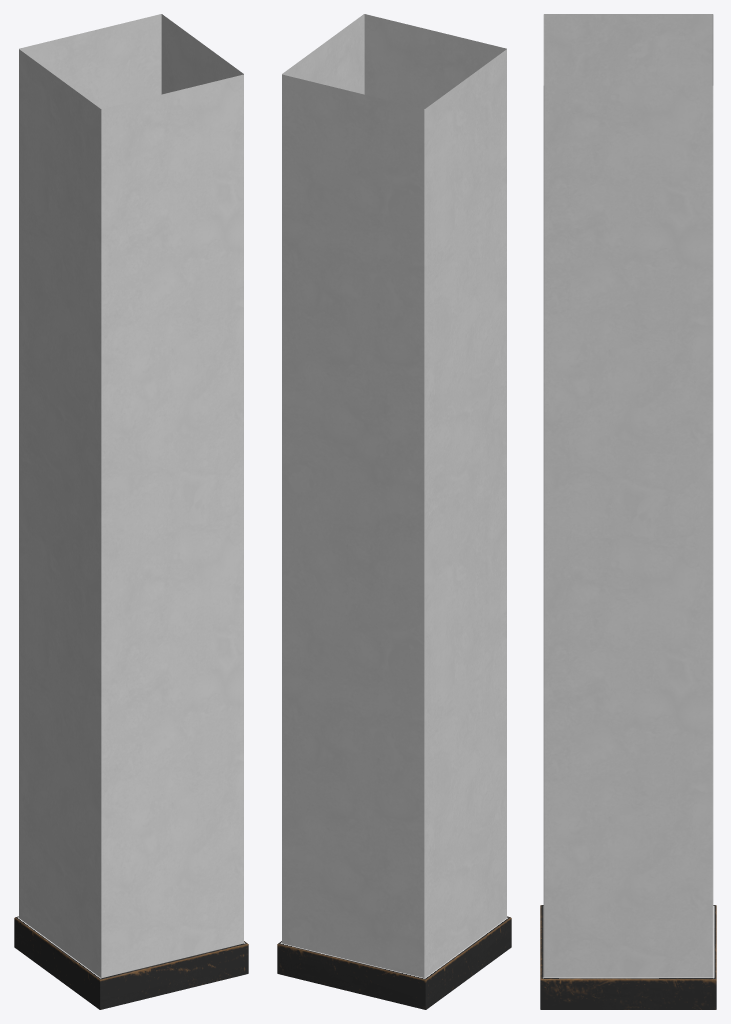
File: SM_InteriorPillar_01_50.fbx
3 views of the same model, side by side, from view 1: azimuth 30°, elevation 25°; view 2: azimuth 150°, elevation 25°; view 3: azimuth 270°, elevation 25° (orthographic). The views are drawn at different scales.
Visible parts, largest first — view 1: SM_InteriorPillar_01_50_LOD0; view 2: SM_InteriorPillar_01_50_LOD0; view 3: SM_InteriorPillar_01_50_LOD0.
Boxes of the visible parts, x1,y1,x2,y2 form: SM_InteriorPillar_01_50_LOD0: (14, 14, 248, 1009); SM_InteriorPillar_01_50_LOD0: (277, 14, 511, 1009); SM_InteriorPillar_01_50_LOD0: (540, 14, 716, 1009).
Bounding box in the file's own units: 52 × 52 × 300.
